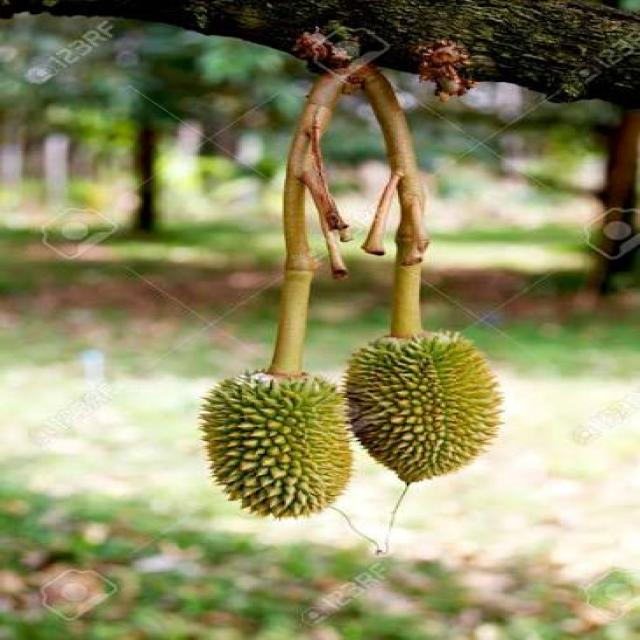immature: (343, 332, 510, 488), (194, 367, 358, 518)
